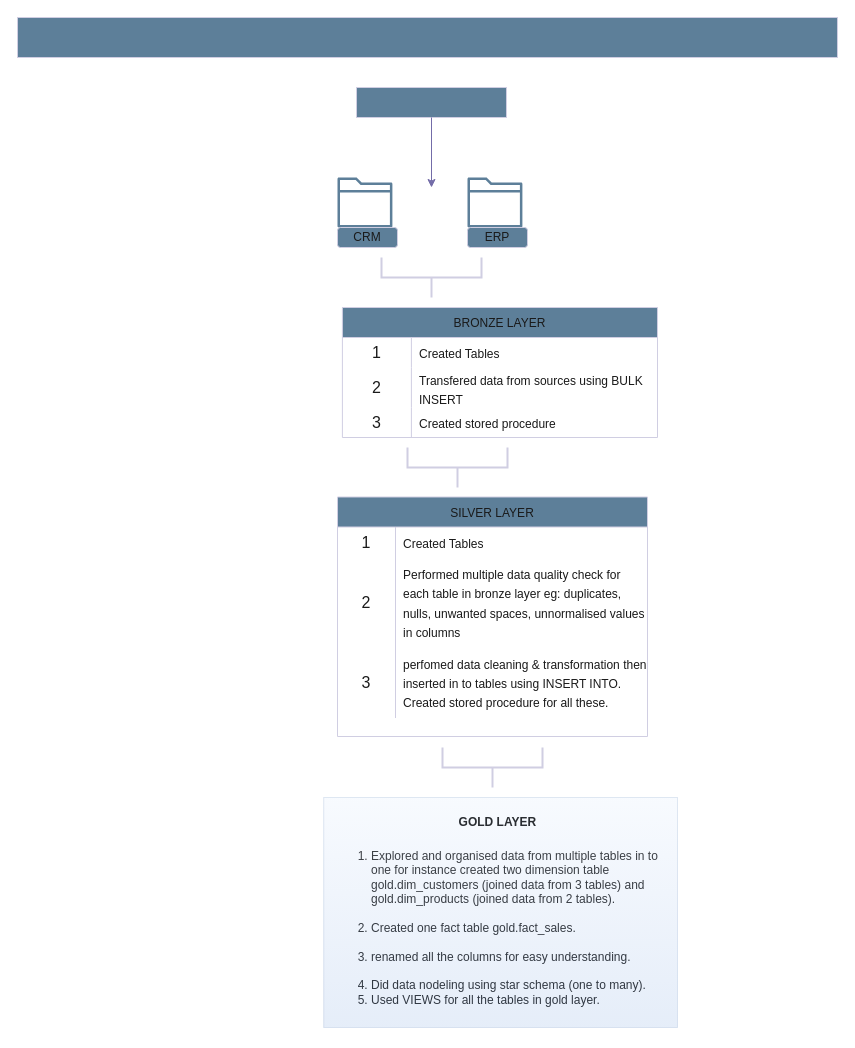
The diagram is 855 pixels wide and 1048 high, and some of its shapes have lost their labels. Each missing label, with the centre of its shape:
DATA WAREHOUSE PROJECT: (x=427, y=37)
SOURCES: (x=431, y=102)
